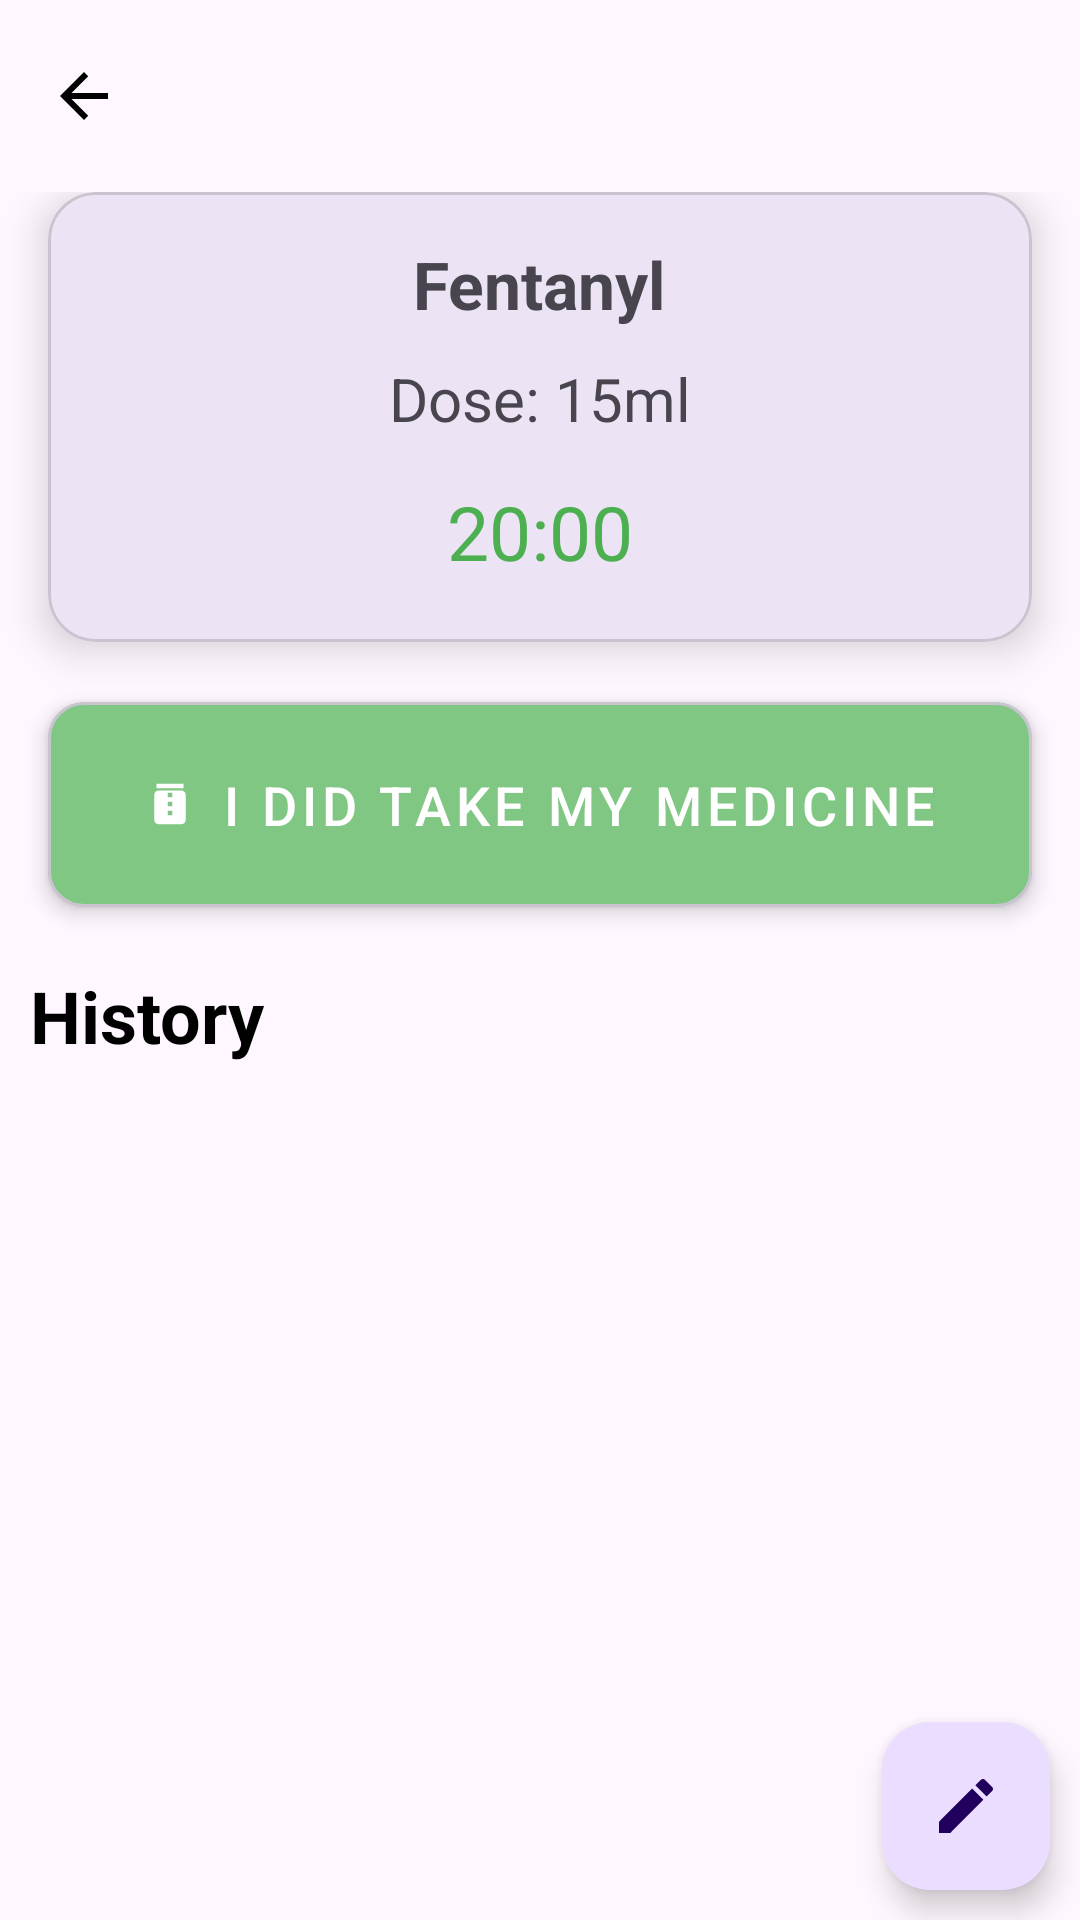

Screen size 1080px x 1920px. Icon name, then its box in pixels as (x1, y1, x2, y2):
Edit medicine: (882, 1722, 1050, 1890)
